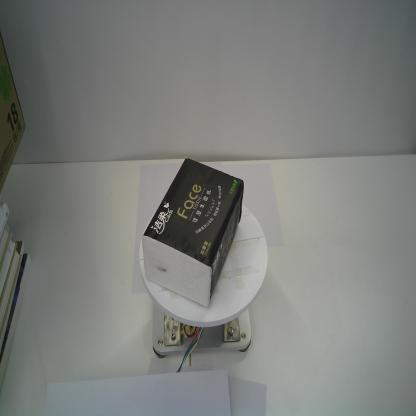Tissue: (140, 159, 244, 309)
